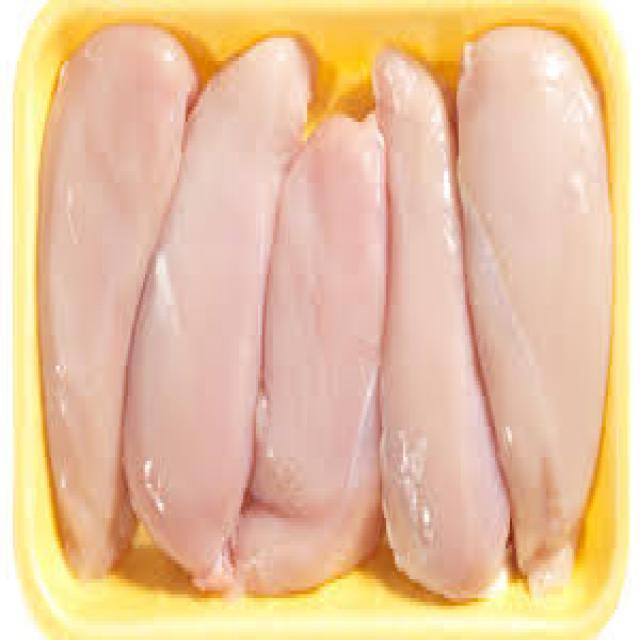chicken: (124, 38, 311, 590), (459, 27, 614, 590), (41, 27, 196, 577), (375, 50, 512, 600), (239, 114, 388, 594)
